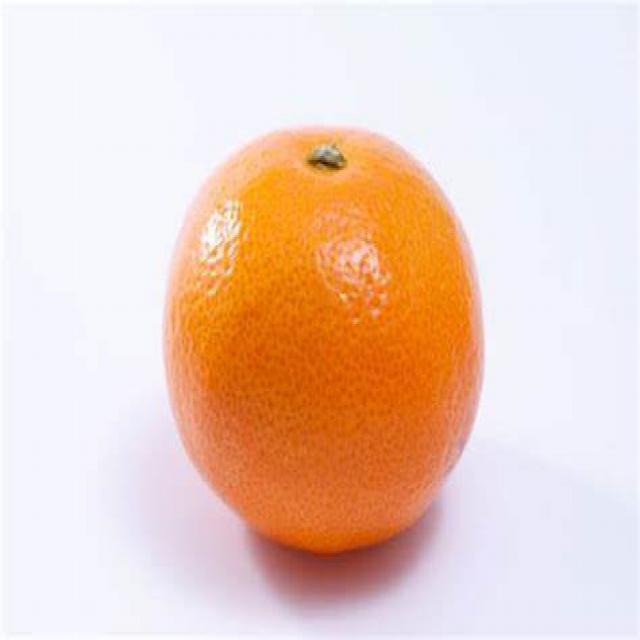Orange: (161, 123, 488, 553)
